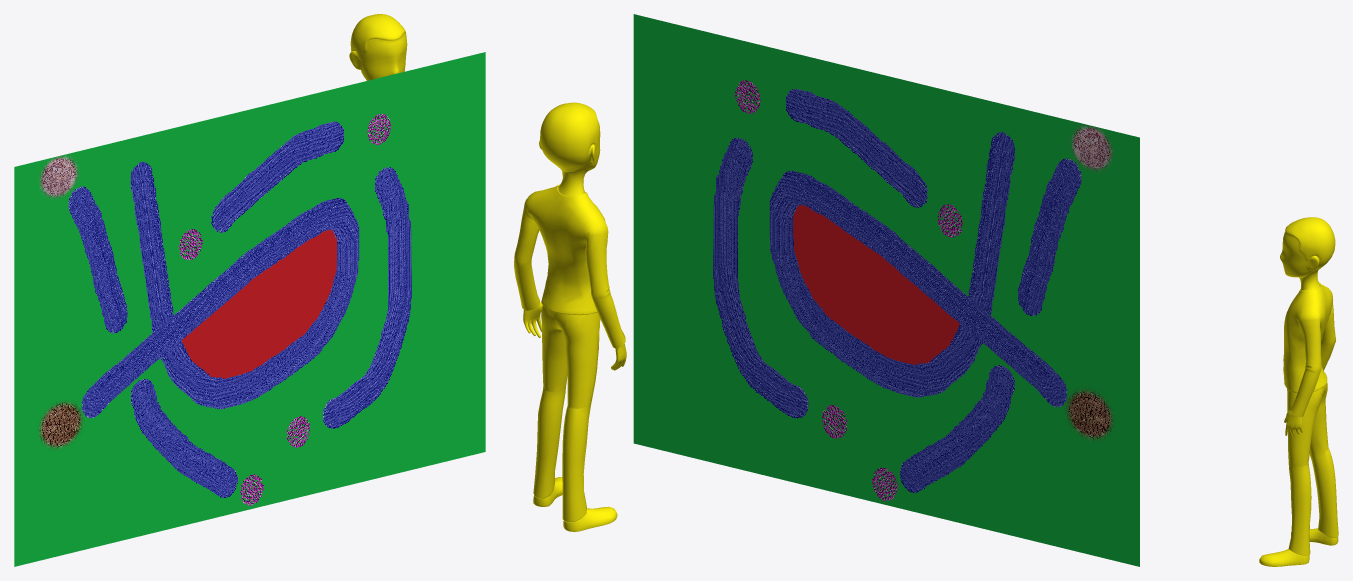
Rendered from asset.glb.
3 views of the same model, side by side, from view 1: azimuth 30°, elevation 25°; view 2: azimuth 150°, elevation 25°; view 3: azimuth 270°, elevation 25° (orthographic). The views are drawn at different scales.
Visible parts, largest first — view 1: mesh_id1, mesh_id27; view 2: mesh_id1, mesh_id27; view 3: mesh_id27.
Boxes of the visible parts, box(x1,y1,x2,y2) form: mesh_id1: box(14, 52, 485, 566); mesh_id27: box(349, 14, 407, 80); mesh_id1: box(633, 14, 1139, 566); mesh_id27: box(514, 102, 626, 531); mesh_id27: box(1259, 217, 1338, 566).
Bounding box in the file's own units: 0.7366 × 0.565 × 0.2523.
2 materials, 2 textured.
